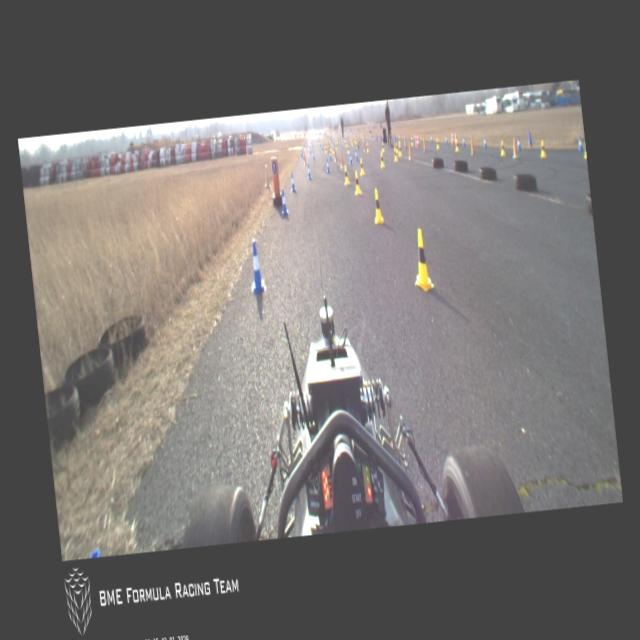blue_cone: (248, 242, 264, 294), (279, 188, 288, 215), (288, 171, 296, 192), (306, 163, 312, 180), (516, 135, 522, 151), (577, 136, 583, 152), (325, 156, 330, 172), (348, 152, 353, 166), (482, 134, 486, 148), (354, 148, 358, 160), (328, 150, 332, 160), (444, 135, 448, 143), (462, 136, 465, 146), (429, 134, 432, 143), (312, 150, 314, 161), (308, 146, 310, 152), (300, 151, 302, 157)
large_orange_cone: (415, 132, 420, 148), (413, 131, 418, 147), (449, 130, 454, 146), (453, 130, 457, 146)
unknown_cone: (262, 163, 270, 188), (511, 135, 518, 157), (407, 141, 413, 160), (338, 149, 344, 168), (469, 136, 474, 154), (332, 145, 337, 162), (302, 150, 308, 163), (526, 132, 532, 144), (422, 136, 426, 152), (363, 136, 367, 152), (403, 134, 407, 148), (394, 134, 396, 144), (305, 144, 307, 153)
yellow_cone: (409, 228, 434, 292), (372, 188, 384, 223), (352, 170, 362, 195), (342, 164, 350, 186), (539, 139, 546, 158), (359, 158, 365, 177), (378, 151, 384, 168), (392, 146, 398, 162), (500, 140, 506, 156), (396, 142, 402, 156), (434, 136, 440, 150), (582, 140, 586, 159), (454, 138, 459, 152), (380, 140, 384, 153), (365, 142, 369, 152), (395, 142, 398, 154), (410, 136, 413, 146), (324, 144, 327, 154), (346, 144, 349, 153), (398, 134, 400, 144), (332, 144, 334, 154), (335, 142, 337, 149), (344, 140, 346, 146)
